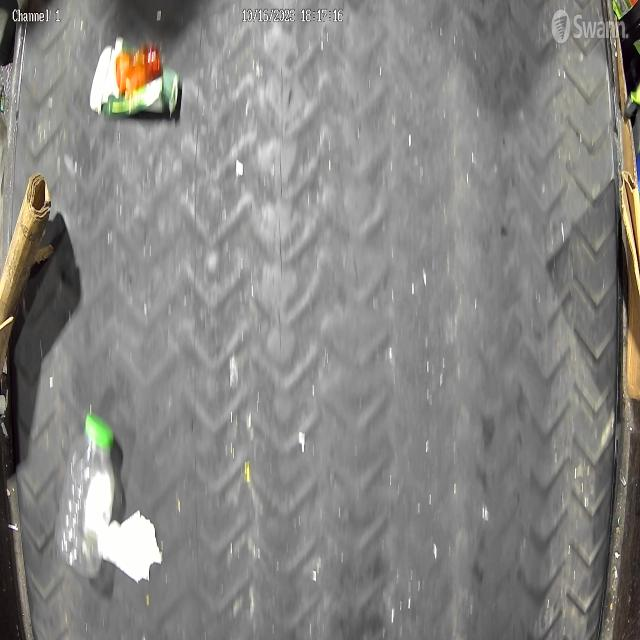plastic_bottle: (54, 408, 117, 580)
